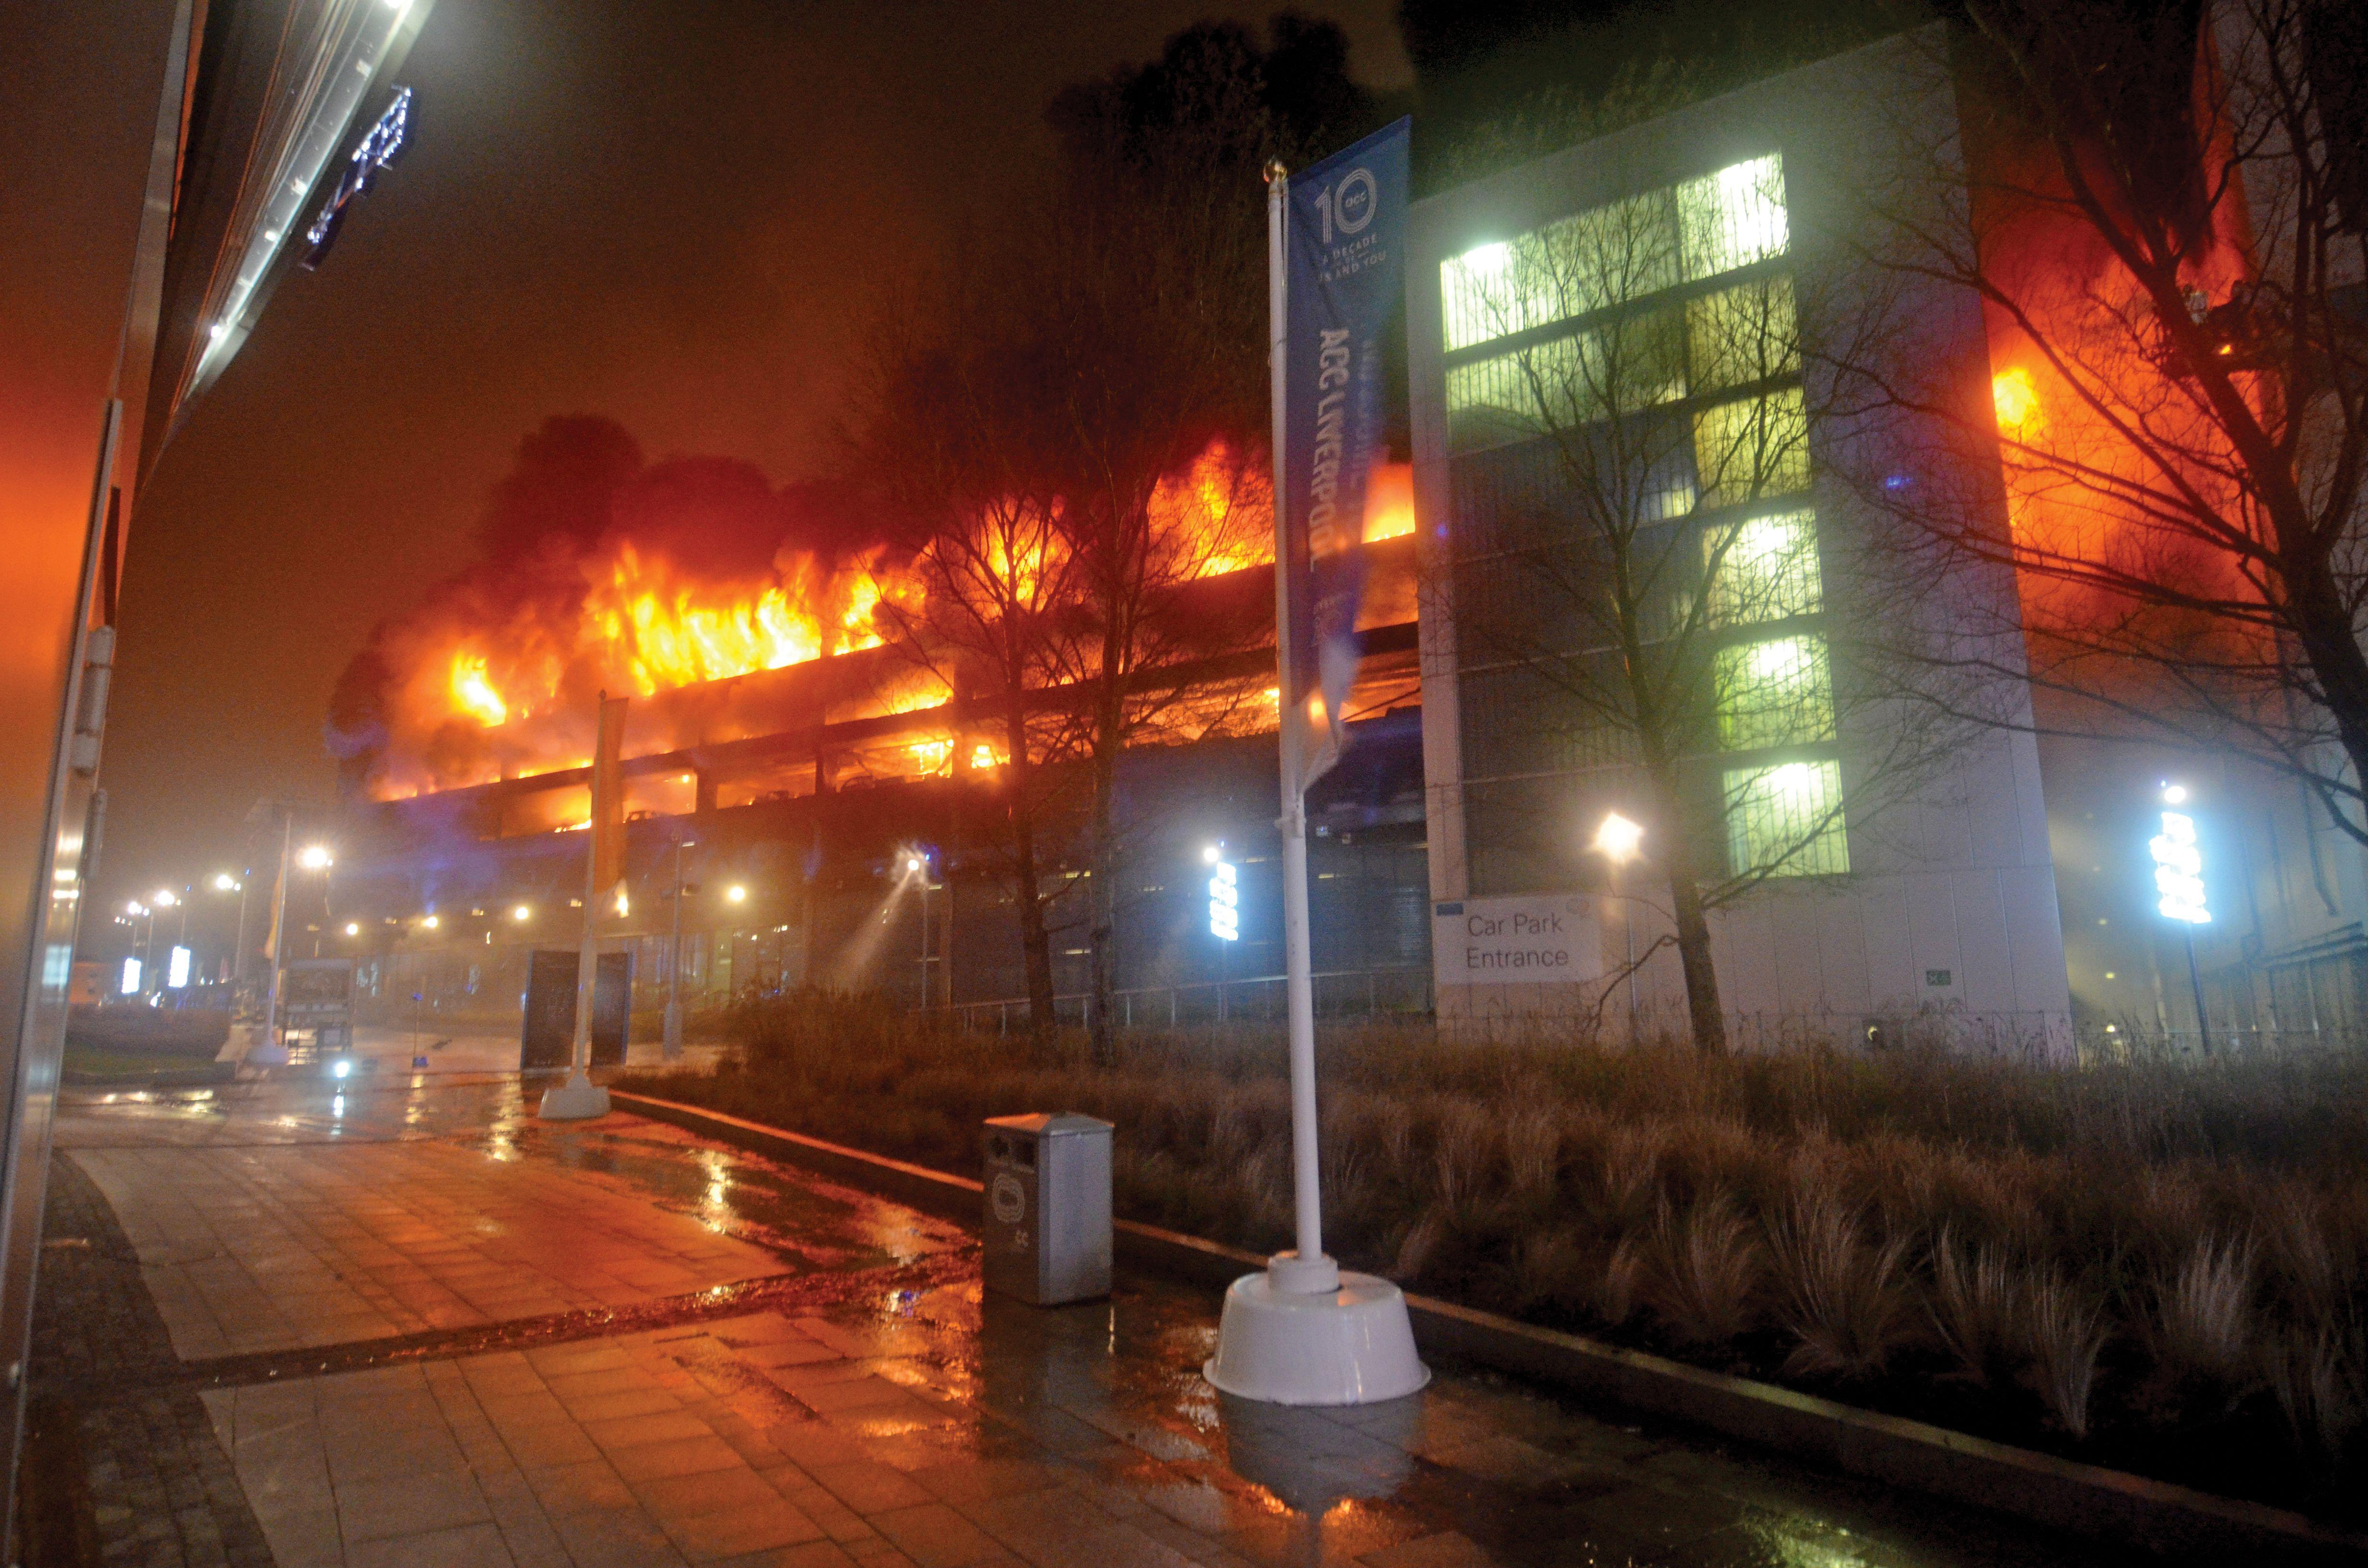Fire: (380, 458, 1407, 728)
